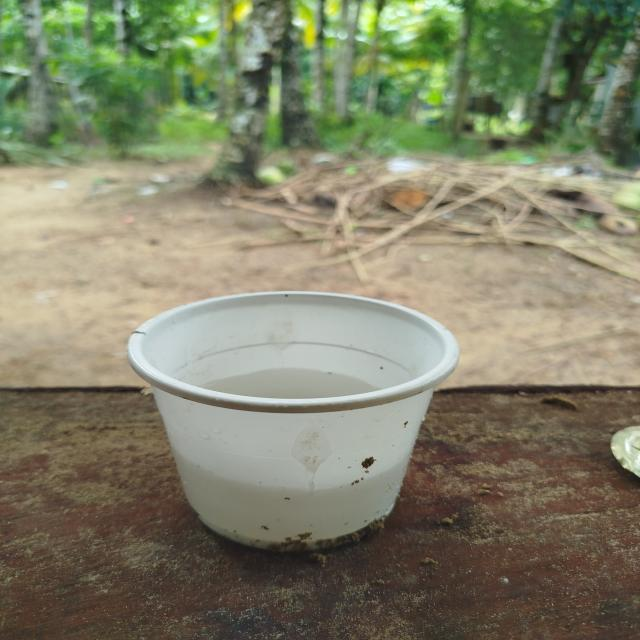plastic: (107, 281, 489, 568)
